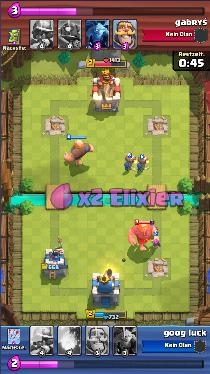ally_archer: (151, 239, 161, 248), (151, 225, 158, 234)
ally_giant: (63, 140, 94, 166)
ally_wallbreaker: (124, 153, 137, 171), (137, 154, 149, 173)
enemy_giant: (129, 221, 157, 251)
